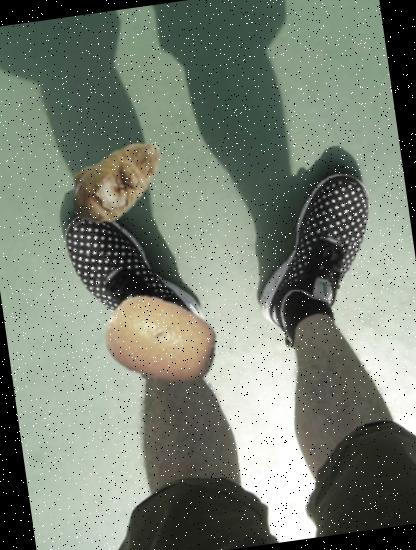Ginger: (57, 120, 176, 239)
Kumquats: (96, 276, 226, 406)
